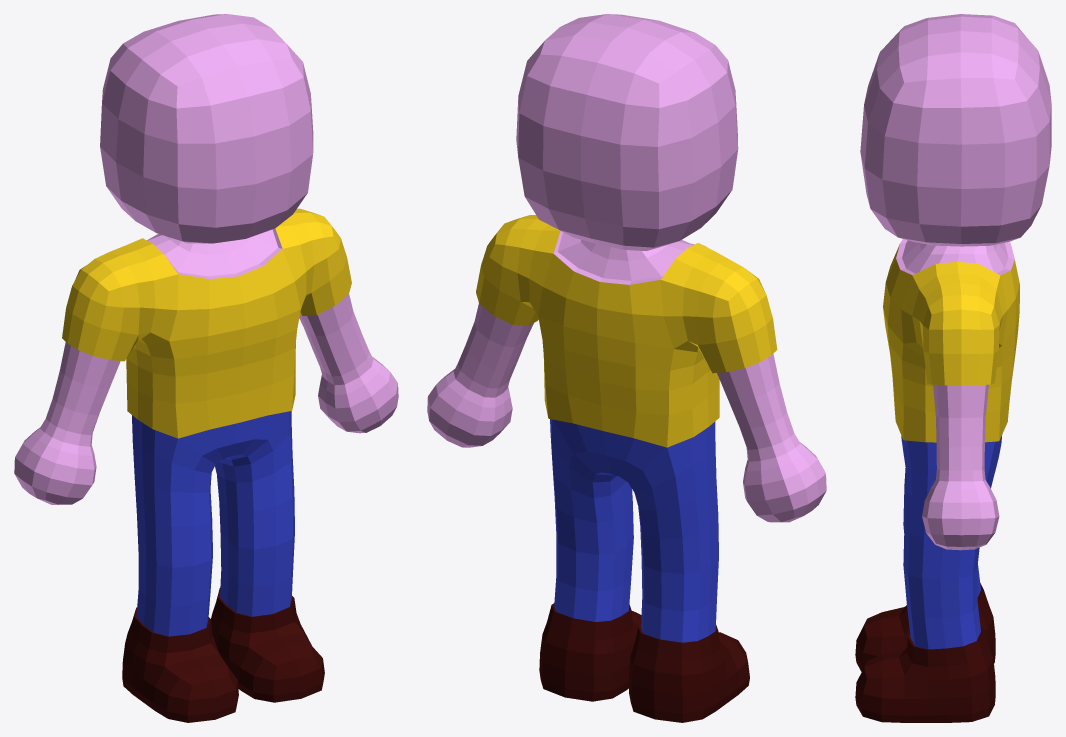
The model's file is Child_Normal.fbx.
3 views of the same model, side by side, from view 1: azimuth 30°, elevation 25°; view 2: azimuth 150°, elevation 25°; view 3: azimuth 270°, elevation 25° (orthographic). The views are drawn at different scales.
Visible parts, largest first — view 1: Child_Normal; view 2: Child_Normal; view 3: Child_Normal.
Boxes of the visible parts, bbox=[...] form: Child_Normal: bbox=[14, 14, 398, 722]; Child_Normal: bbox=[427, 14, 826, 722]; Child_Normal: bbox=[855, 14, 1051, 722].
Size of the model in its own units: 103 by 172 by 46.78.
